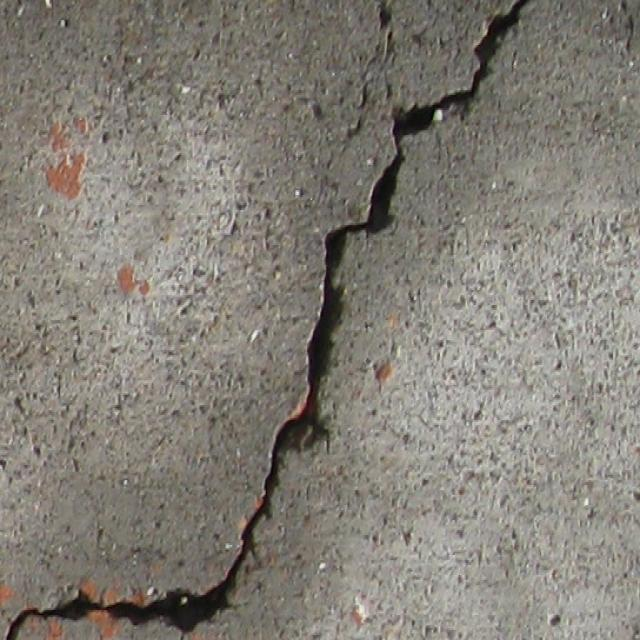crack: (224, 229, 347, 609), (347, 0, 526, 241), (6, 579, 223, 638)
